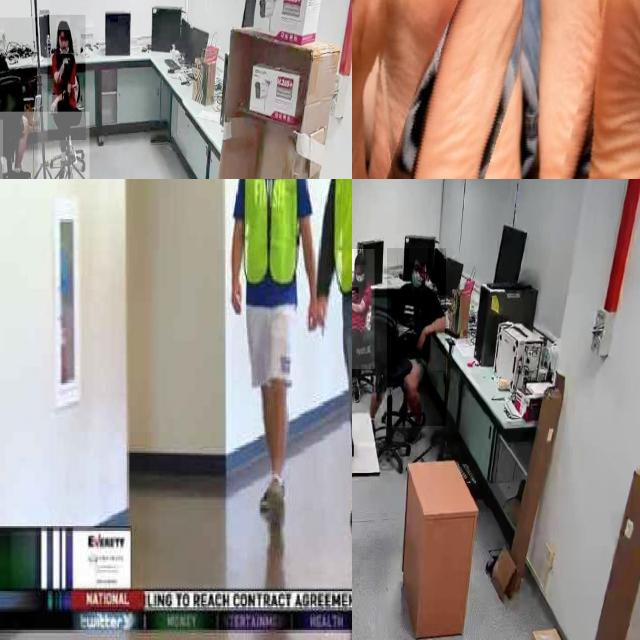Barefoots: (366, 0, 469, 179), (530, 0, 633, 179), (450, 0, 541, 179)
face_mask: (413, 265, 425, 295)
hand_noglove: (414, 328, 426, 354), (48, 95, 58, 114), (352, 287, 359, 299)
head_nohelmet: (409, 248, 429, 263), (354, 250, 366, 266), (56, 18, 70, 31)
person: (387, 248, 447, 427), (0, 17, 37, 179), (48, 15, 86, 140), (352, 249, 375, 370)
shoes: (53, 151, 69, 179), (65, 137, 79, 165), (11, 163, 33, 179)
vest: (236, 179, 305, 300), (328, 179, 352, 293)
